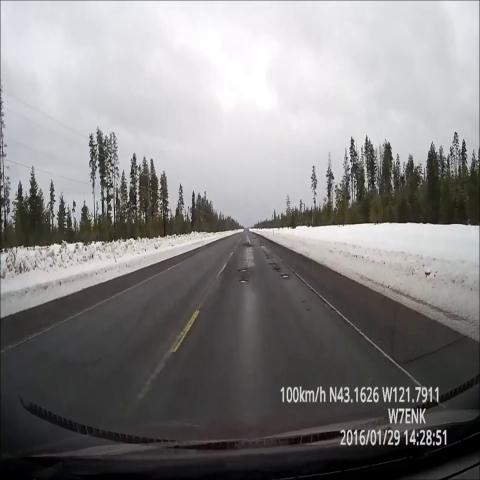pothole: (234, 269, 252, 294), (274, 267, 292, 286), (266, 257, 284, 275), (236, 262, 253, 276), (261, 247, 273, 262), (238, 242, 255, 248)
